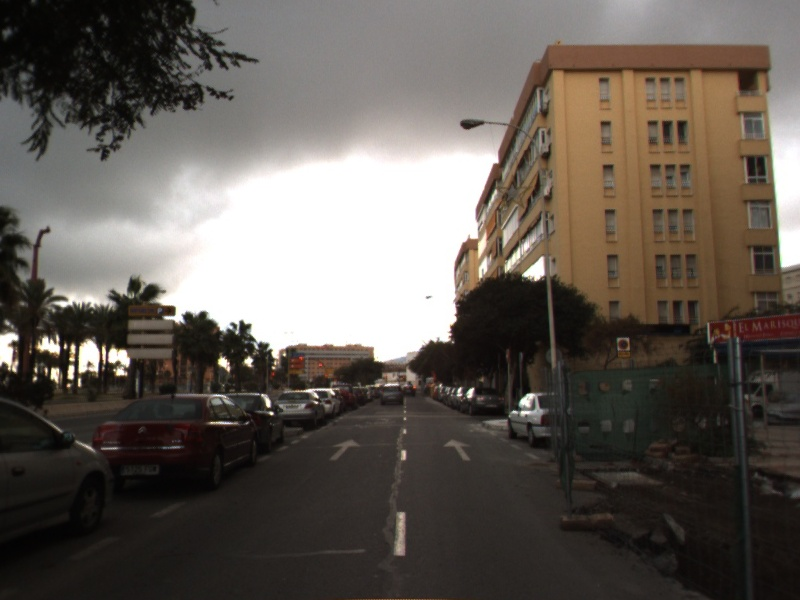STRAIGHT: (327, 438, 363, 462), (442, 438, 473, 462)
